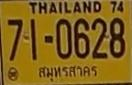0: (56, 18, 70, 58)
1: (30, 18, 36, 59)
2: (91, 17, 107, 58)
6: (73, 18, 89, 58)
7: (7, 18, 22, 60)
8: (109, 17, 124, 57)
SKN: (36, 64, 100, 83)
